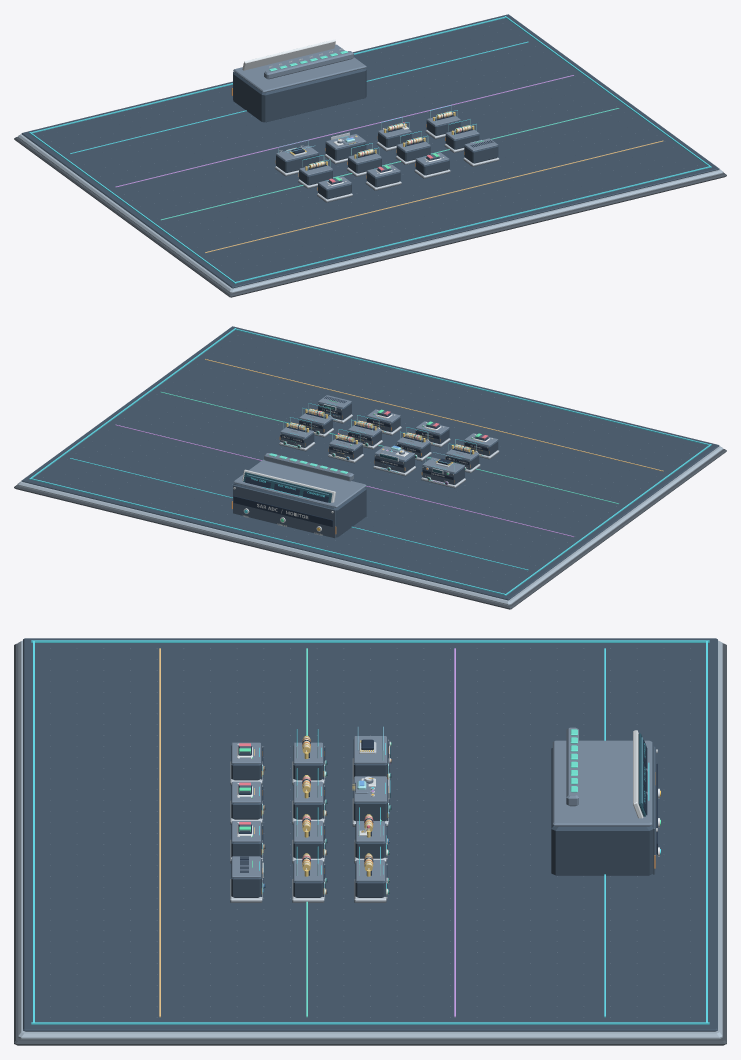
The model's file is Level42_Complete_ArtKit_Showcase.fbx.
3 renders of one model, top to bottom at view 1: azimuth 30°, elevation 25°; view 2: azimuth 150°, elevation 25°; view 3: azimuth 270°, elevation 25°, orthographic. The views are drawn at different scales.
Visible parts, largest first — view 1: Model::00_Art_Showcase_Base__L42_BOARD_GraphiteSurface, Model::00_Art_Showcase_Base__L42_BOARD_AlloyFrame, Model::13_ADC_Monitor__L42_SAR_ADC_MONITOR_Chassis, Model::00_Art_Showcase_Base__L42_BOARD_DampeningFeet, Model::13_ADC_Monitor__L42_SAR_ADC_MONITOR_Top_Lid, Model::00_Art_Showcase_Base__L42_BOARD_ShortEdge_+9.2, Model::13_ADC_Monitor__L42_SAR_ADC_MONITOR_Angled_MonitorChr, Model::13_ADC_Monitor__L42_SAR_ADC_MONITOR_EightCodeBarHousi, Model::00_Art_Showcase_Base__L42_BOARD_ShortEdge_-9.2, Model::00_Art_Showcase_Base__L42_BOARD_BoardRowGuide_5.78, Model::00_Art_Showcase_Base__L42_BOARD_BoardRowGuide_-2.33, Model::00_Art_Showcase_Base__L42_BOARD_BoardRowGuide_-6.45 (+5 smaller); view 2: Model::00_Art_Showcase_Base__L42_BOARD_GraphiteSurface, Model::00_Art_Showcase_Base__L42_BOARD_AlloyFrame, Model::00_Art_Showcase_Base__L42_BOARD_DampeningFeet, Model::13_ADC_Monitor__L42_SAR_ADC_MONITOR_Front_Console_Pla, Model::13_ADC_Monitor__L42_SAR_ADC_MONITOR_Top_Lid, Model::13_ADC_Monitor__L42_SAR_ADC_MONITOR_Chassis, Model::00_Art_Showcase_Base__L42_BOARD_ShortEdge_+9.2, Model::00_Art_Showcase_Base__L42_BOARD_ShortEdge_-9.2, Model::13_ADC_Monitor__L42_SAR_ADC_MONITOR_TitlePlate, Model::00_Art_Showcase_Base__L42_BOARD_BoardRowGuide_5.78, Model::13_ADC_Monitor__L42_SAR_ADC_MONITOR_EightCodeBarHousi, Model::00_Art_Showcase_Base__L42_BOARD_BoardRowGuide_-2.33 (+5 smaller); view 3: Model::00_Art_Showcase_Base__L42_BOARD_GraphiteSurface, Model::00_Art_Showcase_Base__L42_BOARD_AlloyFrame, Model::00_Art_Showcase_Base__L42_BOARD_DampeningFeet, Model::13_ADC_Monitor__L42_SAR_ADC_MONITOR_Top_Lid, Model::13_ADC_Monitor__L42_SAR_ADC_MONITOR_Chassis, Model::00_Art_Showcase_Base__L42_BOARD_LongEdge_+12.4, Model::00_Art_Showcase_Base__L42_BOARD_LongEdge_-12.4, Model::00_Art_Showcase_Base__L42_BOARD_ShortEdge_+9.2, Model::00_Art_Showcase_Base__L42_BOARD_ShortEdge_-9.2, Model::00_Art_Showcase_Base__L42_BOARD_BoardRowGuide_-2.33, Model::00_Art_Showcase_Base__L42_BOARD_BoardRowGuide_5.78, Model::13_ADC_Monitor__L42_SAR_ADC_MONITOR_EightCodeBarHousi (+1 smaller).
Boxes of the visible parts, x1=… form: Model::00_Art_Showcase_Base__L42_BOARD_GraphiteSurface: x1=21, y1=14, x2=719, y2=288; Model::00_Art_Showcase_Base__L42_BOARD_AlloyFrame: x1=17, y1=134, x2=723, y2=293; Model::13_ADC_Monitor__L42_SAR_ADC_MONITOR_Chassis: x1=233, y1=68, x2=366, y2=122; Model::00_Art_Showcase_Base__L42_BOARD_DampeningFeet: x1=14, y1=137, x2=726, y2=297; Model::13_ADC_Monitor__L42_SAR_ADC_MONITOR_Top_Lid: x1=233, y1=44, x2=366, y2=92; Model::00_Art_Showcase_Base__L42_BOARD_ShortEdge_+9.2: x1=235, y1=166, x2=710, y2=282; Model::13_ADC_Monitor__L42_SAR_ADC_MONITOR_Angled_MonitorChr: x1=242, y1=39, x2=335, y2=70; Model::13_ADC_Monitor__L42_SAR_ADC_MONITOR_EightCodeBarHousi: x1=264, y1=51, x2=353, y2=79; Model::00_Art_Showcase_Base__L42_BOARD_ShortEdge_-9.2: x1=31, y1=16, x2=505, y2=133; Model::00_Art_Showcase_Base__L42_BOARD_BoardRowGuide_5.78: x1=205, y1=140, x2=663, y2=252; Model::00_Art_Showcase_Base__L42_BOARD_BoardRowGuide_-2.33: x1=115, y1=75, x2=573, y2=187; Model::00_Art_Showcase_Base__L42_BOARD_BoardRowGuide_-6.45: x1=69, y1=41, x2=528, y2=154; Model::00_Art_Showcase_Base__L42_BOARD_GraphiteSurface: x1=21, y1=326, x2=719, y2=600; Model::00_Art_Showcase_Base__L42_BOARD_AlloyFrame: x1=17, y1=446, x2=723, y2=605; Model::00_Art_Showcase_Base__L42_BOARD_DampeningFeet: x1=14, y1=449, x2=726, y2=609; Model::13_ADC_Monitor__L42_SAR_ADC_MONITOR_Front_Console_Pla: x1=233, y1=485, x2=335, y2=538; Model::13_ADC_Monitor__L42_SAR_ADC_MONITOR_Top_Lid: x1=233, y1=459, x2=366, y2=507; Model::13_ADC_Monitor__L42_SAR_ADC_MONITOR_Chassis: x1=233, y1=483, x2=366, y2=537; Model::00_Art_Showcase_Base__L42_BOARD_ShortEdge_+9.2: x1=235, y1=328, x2=709, y2=445; Model::00_Art_Showcase_Base__L42_BOARD_ShortEdge_-9.2: x1=30, y1=478, x2=505, y2=594; Model::13_ADC_Monitor__L42_SAR_ADC_MONITOR_TitlePlate: x1=233, y1=496, x2=332, y2=526; Model::00_Art_Showcase_Base__L42_BOARD_BoardRowGuide_5.78: x1=205, y1=359, x2=663, y2=471; Model::13_ADC_Monitor__L42_SAR_ADC_MONITOR_EightCodeBarHousi: x1=264, y1=453, x2=353, y2=481; Model::00_Art_Showcase_Base__L42_BOARD_BoardRowGuide_-2.33: x1=115, y1=424, x2=574, y2=537; Model::00_Art_Showcase_Base__L42_BOARD_GraphiteSurface: x1=23, y1=638, x2=717, y2=1031; Model::00_Art_Showcase_Base__L42_BOARD_AlloyFrame: x1=18, y1=640, x2=722, y2=1039; Model::00_Art_Showcase_Base__L42_BOARD_DampeningFeet: x1=14, y1=643, x2=726, y2=1045; Model::13_ADC_Monitor__L42_SAR_ADC_MONITOR_Top_Lid: x1=552, y1=740, x2=652, y2=826; Model::13_ADC_Monitor__L42_SAR_ADC_MONITOR_Chassis: x1=551, y1=748, x2=652, y2=875; Model::00_Art_Showcase_Base__L42_BOARD_LongEdge_+12.4: x1=31, y1=1022, x2=709, y2=1024; Model::00_Art_Showcase_Base__L42_BOARD_LongEdge_-12.4: x1=31, y1=640, x2=709, y2=642; Model::00_Art_Showcase_Base__L42_BOARD_ShortEdge_+9.2: x1=33, y1=641, x2=34, y2=1022; Model::00_Art_Showcase_Base__L42_BOARD_ShortEdge_-9.2: x1=706, y1=641, x2=707, y2=1022; Model::00_Art_Showcase_Base__L42_BOARD_BoardRowGuide_-2.33: x1=454, y1=648, x2=455, y2=1017; Model::00_Art_Showcase_Base__L42_BOARD_BoardRowGuide_5.78: x1=159, y1=648, x2=160, y2=1017; Model::13_ADC_Monitor__L42_SAR_ADC_MONITOR_EightCodeBarHousi: x1=566, y1=727, x2=578, y2=806.
Bounding box in the file's own units: 26 × 2.7 × 19.6.
